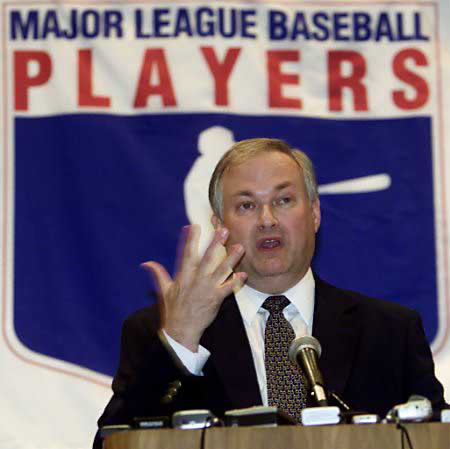Face: (215, 182, 320, 281)
